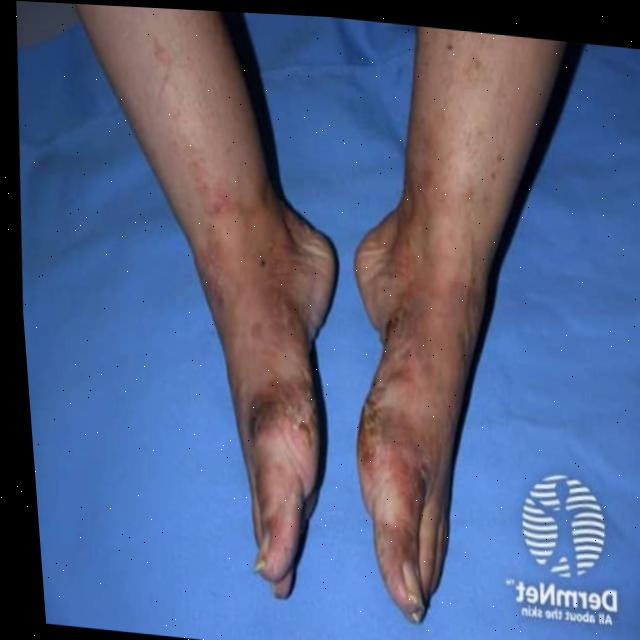Eczema: (346, 179, 485, 492), (207, 214, 331, 458)
